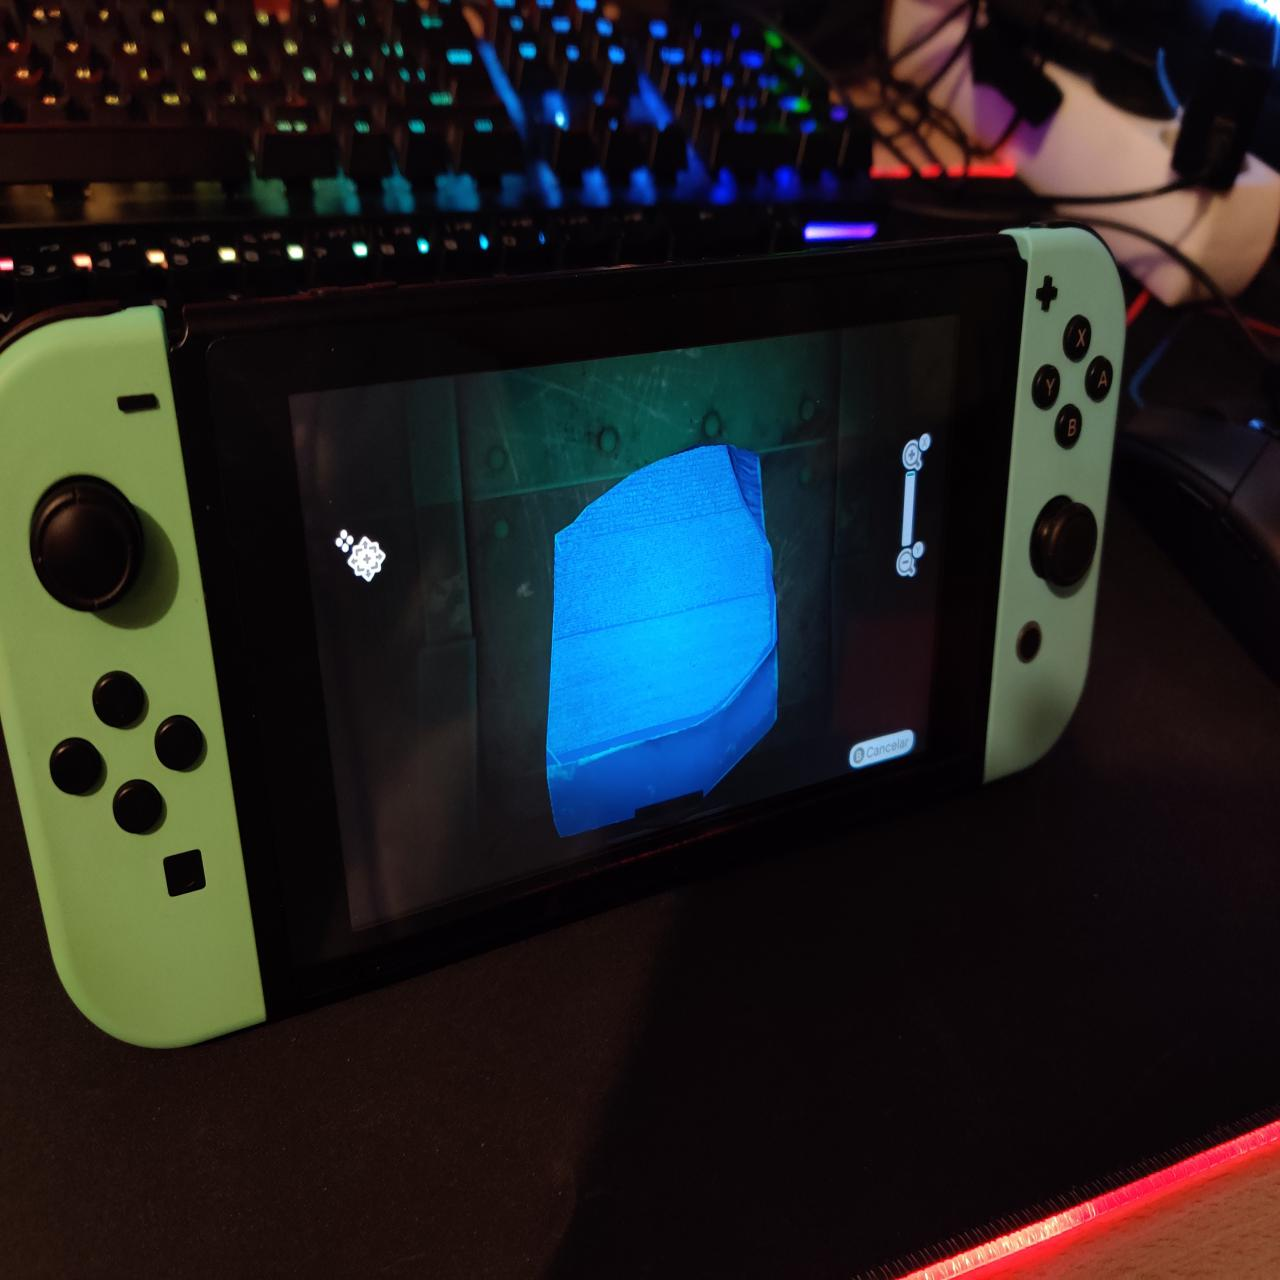RosettaStoneFake: (549, 433, 784, 850)
